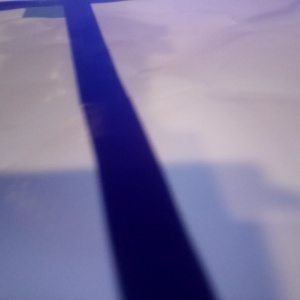bottom_right: (192, 1, 258, 18)
top_left: (146, 32, 224, 63)
